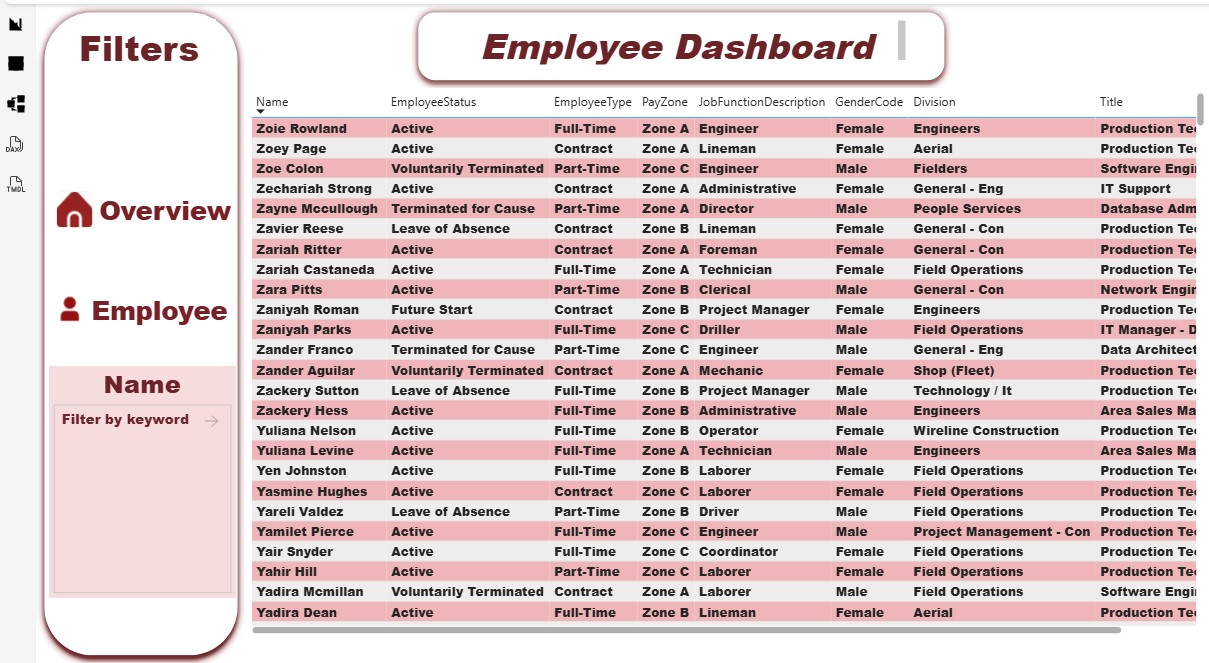

The page's visual inventory and layout, read from the dashboard file:
{"tool":"powerbi","page":{"name":"Employee ","canvas":[1280,720],"ordinal":1},"visuals":[{"type":"shape","box":[0,0,229,719.7],"z":0},{"type":"shape","box":[407.8,0,592.2,92.2],"z":1000},{"type":"textbox","box":[451.2,12.9,501.7,58.2],"z":6000},{"type":"textbox","box":[40.9,16.7,154.7,128.9],"z":15000},{"type":"actionButton","box":[18.4,200.4,198.3,47],"z":16000},{"type":"actionButton","box":[13.6,309.4,198.7,45.5],"z":20000},{"type":"tableEx","fields":{"Values":["employee_data.Name","employee_data.EmployeeStatus","employee_data.EmployeeType","employee_data.PayZone","employee_data.JobFunctionDescription","employee_data.GenderCode","employee_data.Division","employee_data.Title"]},"box":[228.9,91.5,1051.1,601.3],"z":21001},{"type":"textSlicer","fields":{"Values":["employee_data.Name"]},"box":[14.2,394.6,203.6,252.5],"z":21002}]}

Visuals, with their boxes on the page's 1280x720 design canvas (x1, y1, x2, y2). These are canvas units, not pixel positions in the 1209x663 screenshot, which may show the page scaled, cropped or inside an application window:
shape: bbox=(0, 0, 229, 720)
shape: bbox=(408, 0, 1000, 92)
textbox: bbox=(451, 13, 953, 71)
textbox: bbox=(41, 17, 196, 146)
actionButton: bbox=(18, 200, 217, 247)
actionButton: bbox=(14, 309, 212, 355)
tableEx - employee_data.Name x employee_data.EmployeeStatus: bbox=(229, 92, 1280, 693)
textSlicer - employee_data.Name: bbox=(14, 395, 218, 647)
